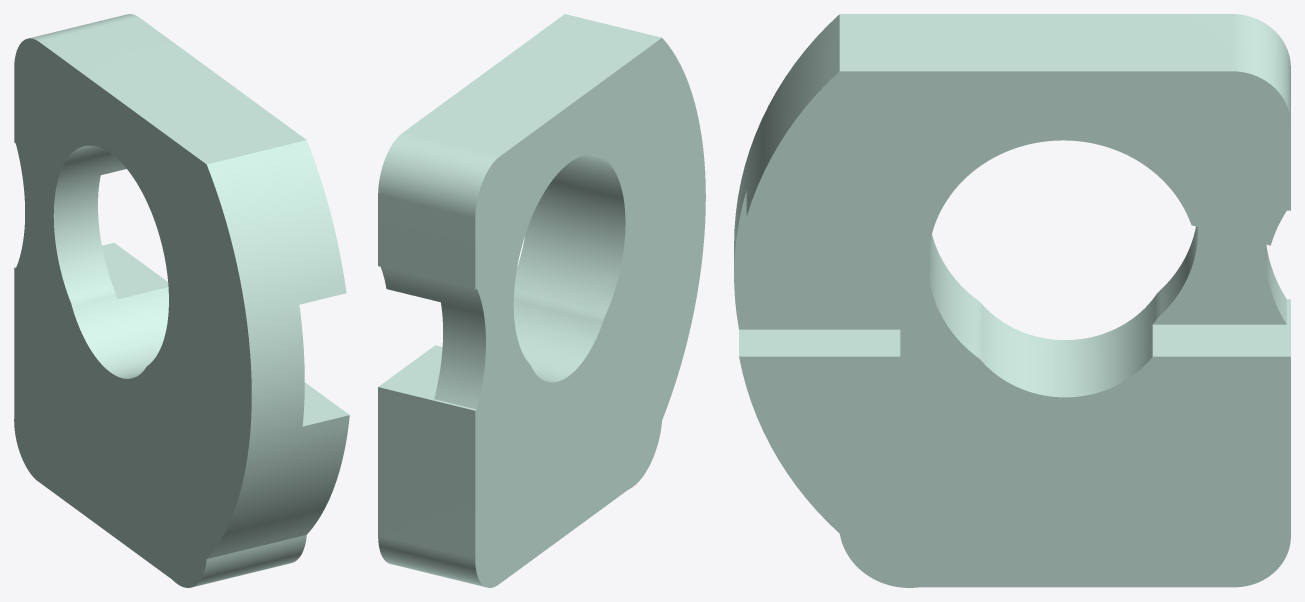
3 views of the same model, side by side, from view 1: azimuth 30°, elevation 25°; view 2: azimuth 150°, elevation 25°; view 3: azimuth 270°, elevation 25° (orthographic). The views are drawn at different scales.
Visible parts, largest first — view 1: Renderer Node; view 2: Renderer Node; view 3: Renderer Node.
Part boxes in pixels (bbox=[...]): Renderer Node: bbox=[14, 14, 349, 587]; Renderer Node: bbox=[378, 14, 705, 587]; Renderer Node: bbox=[734, 14, 1290, 587].
Size of the model in its own units: 0.2656 by 1.12 by 1.09.
